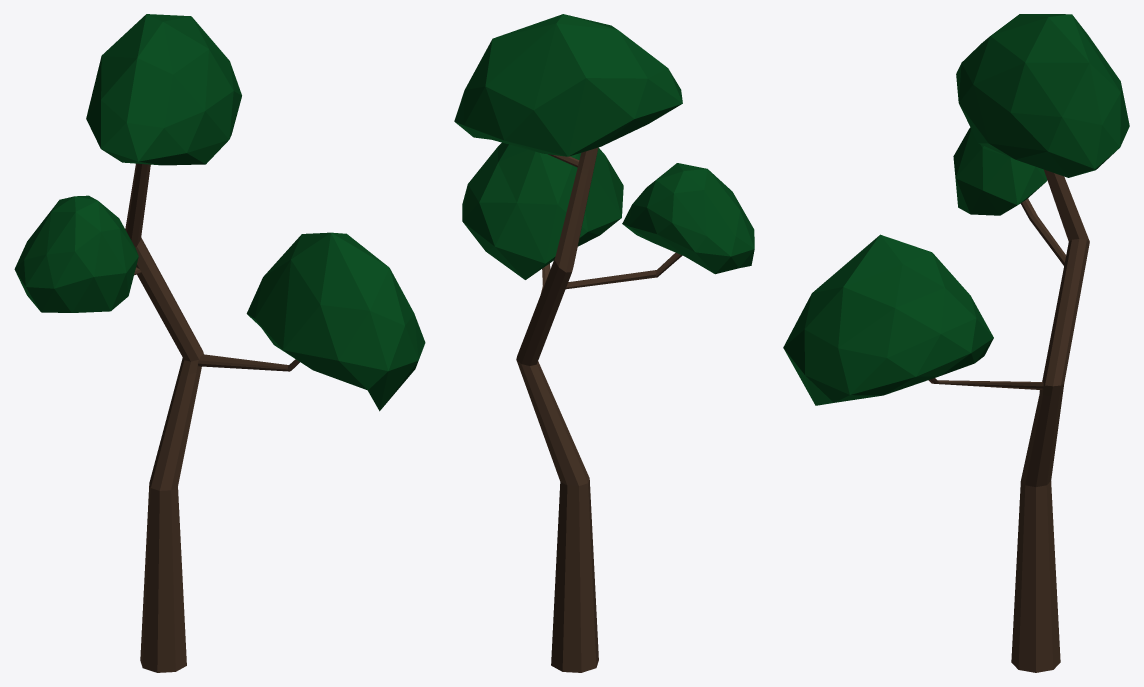
Rendered from darktree.glb.
3 views of the same model, side by side, from view 1: azimuth 30°, elevation 25°; view 2: azimuth 150°, elevation 25°; view 3: azimuth 270°, elevation 25° (orthographic). The views are drawn at different scales.
Visible parts, largest first — view 1: Icosphere, Icosphere.002, Cylinder, Icosphere.001; view 2: Icosphere.002, Cylinder, Icosphere, Icosphere.001; view 3: Icosphere, Icosphere.002, Cylinder, Icosphere.001.
Boxes of the visible parts, x1,y1,x2,y2 form: Icosphere: (246, 232, 425, 411); Icosphere.002: (86, 14, 241, 165); Cylinder: (125, 163, 299, 672); Icosphere.001: (14, 195, 138, 312); Icosphere.002: (454, 14, 682, 156); Cylinder: (516, 147, 682, 672); Icosphere: (462, 142, 623, 279); Icosphere.001: (622, 163, 754, 274); Icosphere: (783, 234, 993, 405); Icosphere.002: (956, 14, 1129, 177); Cylinder: (928, 169, 1089, 672); Icosphere.001: (953, 127, 1047, 215).
Size of the model in its own units: 5.73 by 10.64 by 5.15.
